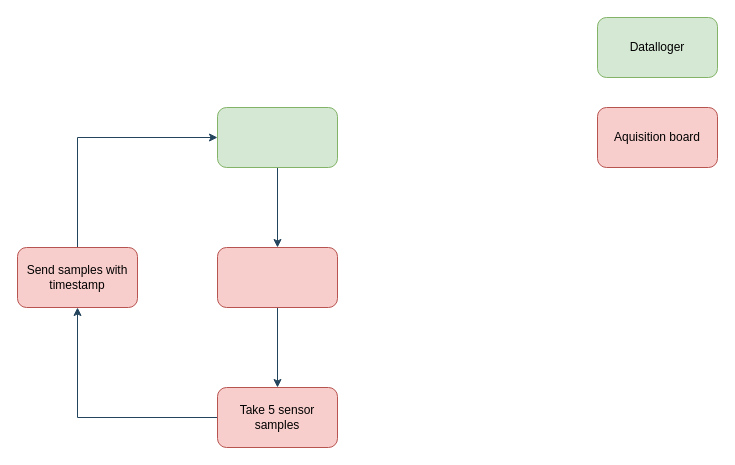
Some shapes in this 735 by 465 pixel diagram are drawn without their labels. The shapes that lost their labels are listed below. From the top down, each one's centre as x and y in pixels, then its label:
At point (277, 137): "Broadcast to all with current time".
At point (277, 277): "Equal system time".
